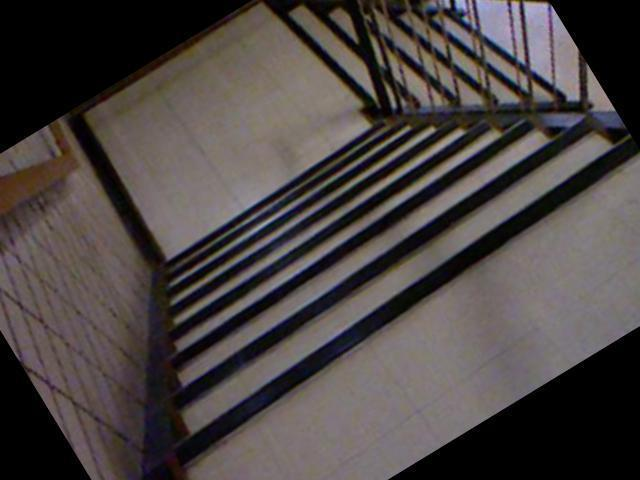Escaleras: (88, 0, 640, 457), (266, 0, 585, 212)
